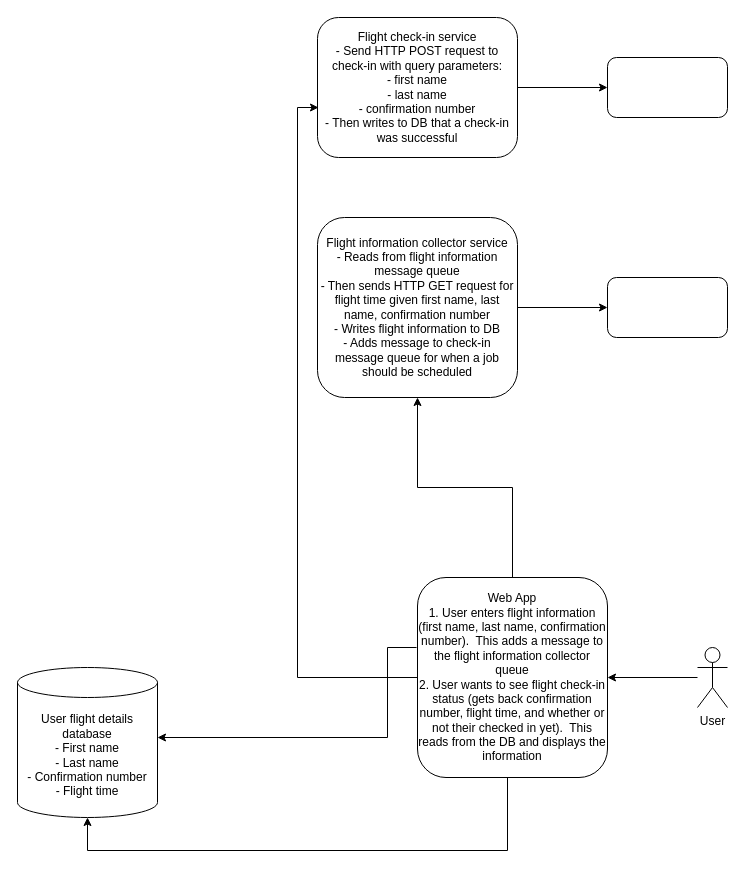
Image size: 745x876. Some labels were removed from this diagram. The box of each missing label's shape, as (x1, y1, x2, y2) in pixels:
Southwest Airlines Flight Check-In API: (606, 56, 728, 118)
Southwest Airlines Flight Information API: (606, 276, 728, 338)
